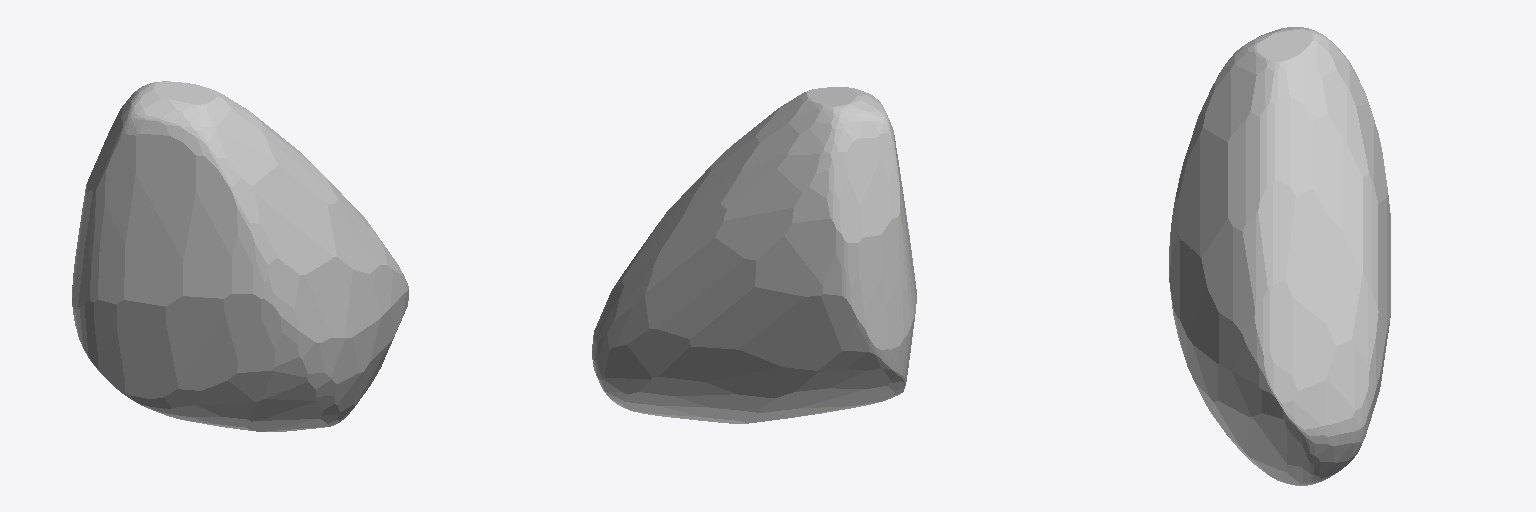
Rendered from aridane.obj.
3 views of the same model, side by side, from view 1: azimuth 30°, elevation 25°; view 2: azimuth 150°, elevation 25°; view 3: azimuth 270°, elevation 25° (orthographic).
Size of the model in its own units: 4.15 by 4.57 by 2.52.